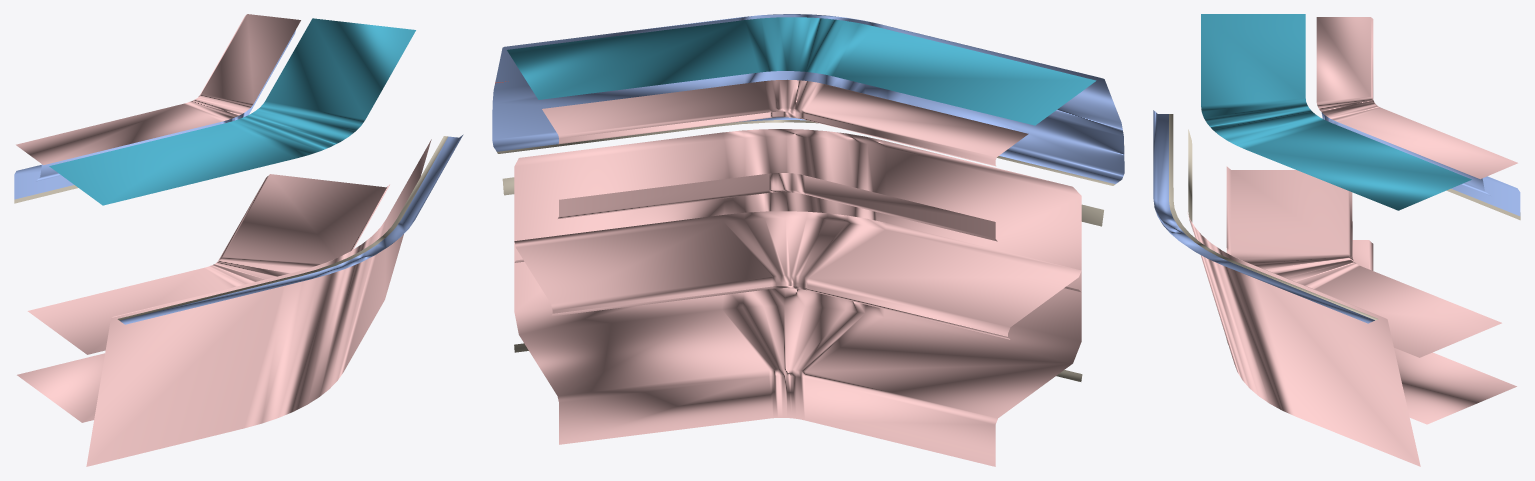
The model's file is counter_welcome_1_corner_out_microtech_a_custom.glb.
3 views of the same model, side by side, from view 1: azimuth 30°, elevation 25°; view 2: azimuth 150°, elevation 25°; view 3: azimuth 270°, elevation 25° (orthographic). The views are drawn at different scales.
Size of the model in its own units: 1.7 by 1 by 1.25.
